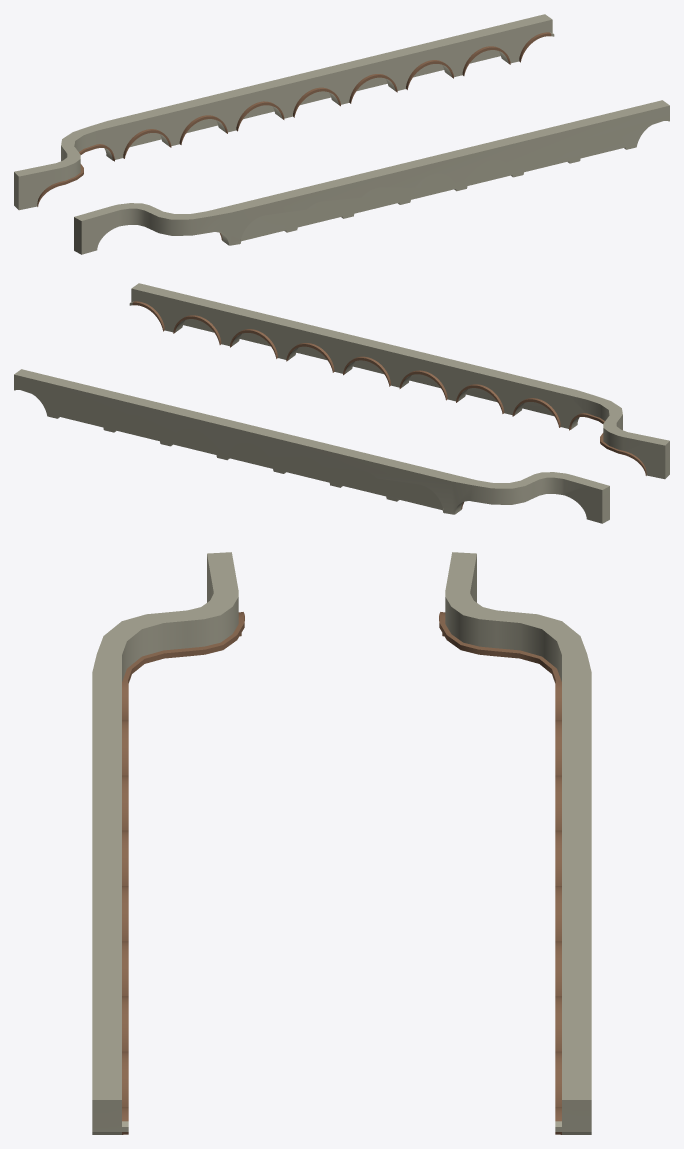
The model's file is thing.fbx.
The picture shows the model from 3 angles, top to bottom: view 1: azimuth 30°, elevation 25°; view 2: azimuth 150°, elevation 25°; view 3: azimuth 270°, elevation 25°; orthographic projection. The views are drawn at different scales.
Parts seen in each view (by area): view 1: Cube.041; view 2: Cube.041; view 3: Cube.041.
Part boxes in pixels (x1,y1,x2,y2): Cube.041: [14, 14, 669, 254]; Cube.041: [14, 283, 669, 523]; Cube.041: [92, 552, 591, 1134].
Size of the model in its own units: 24111 by 1384 by 9293.
